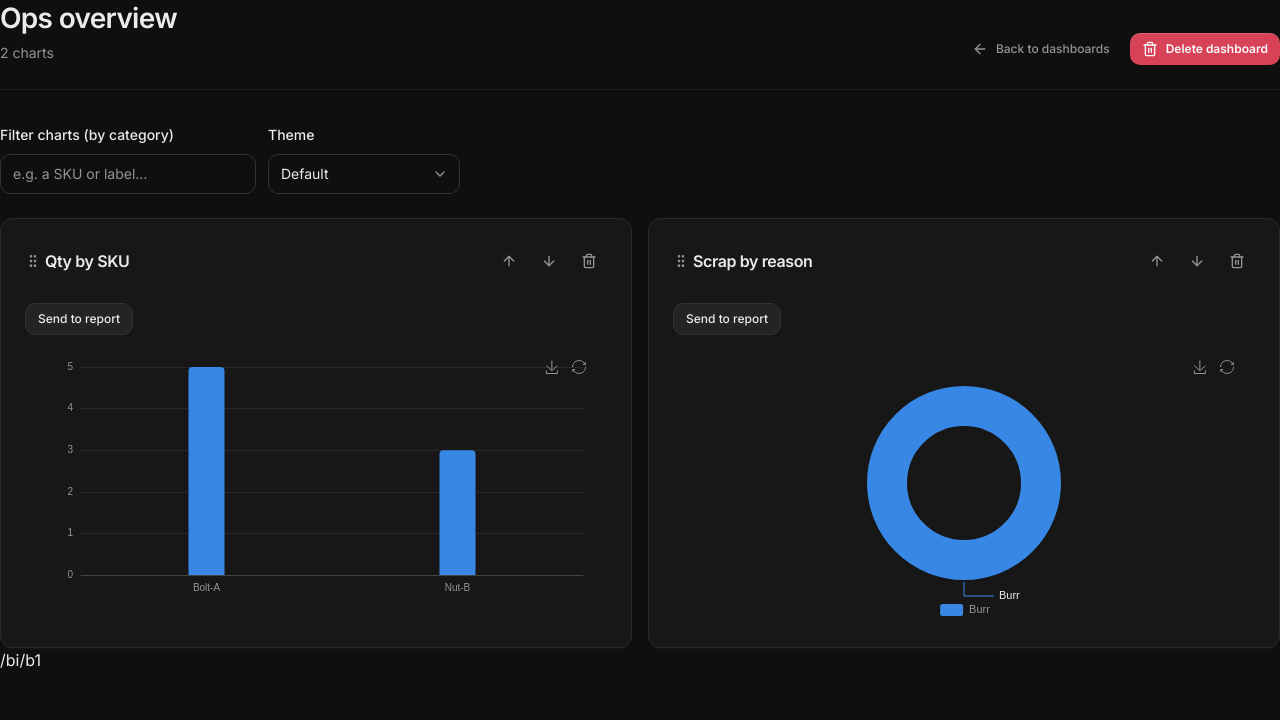
Test: DashboardDetail › shows a reorder failure
The image size is (1280, 720).
Step 1. Click the button titled "Move up" in the row of "Scrap by reason" → [1157, 261], box [1139, 243, 1175, 279]
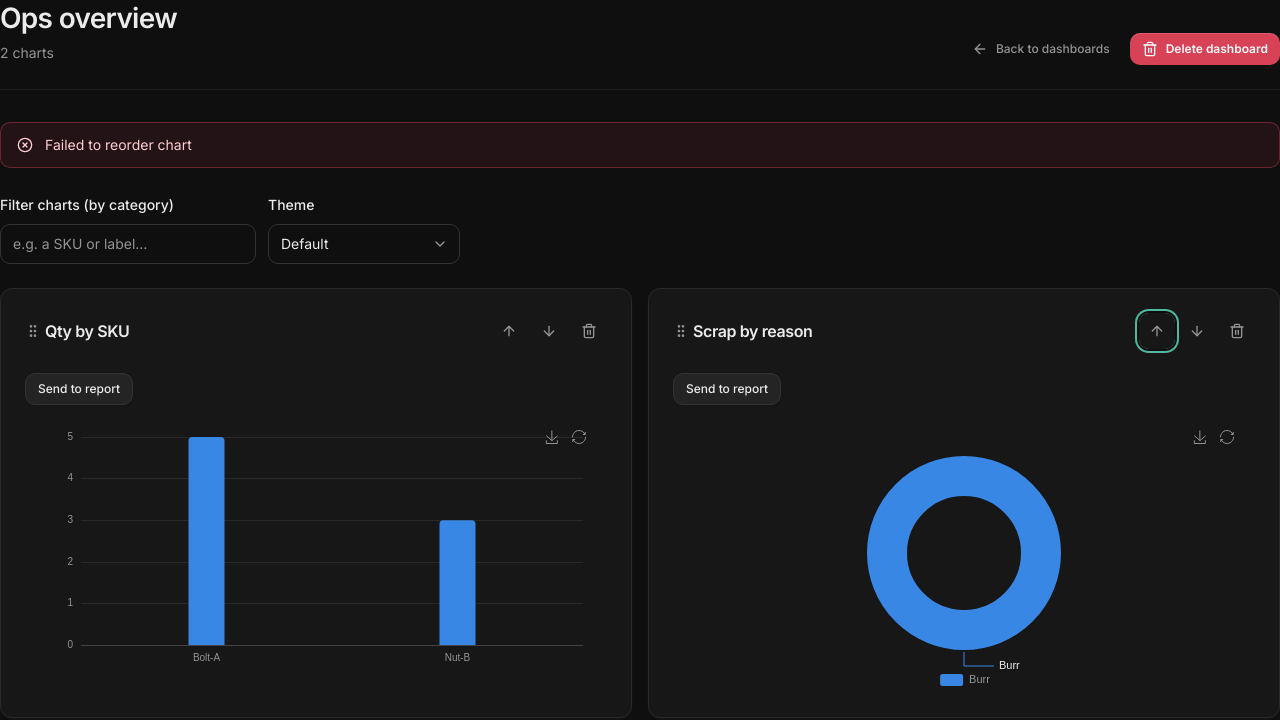
Expected: the text "Failed to reorder chart" is shown, [45, 135, 192, 155]
